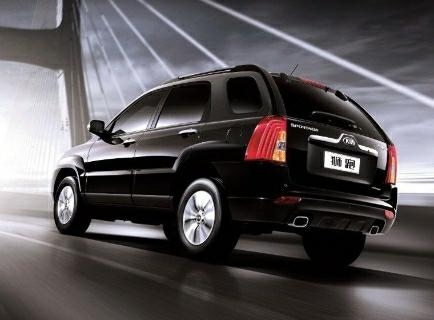car: (41, 68, 408, 272)
